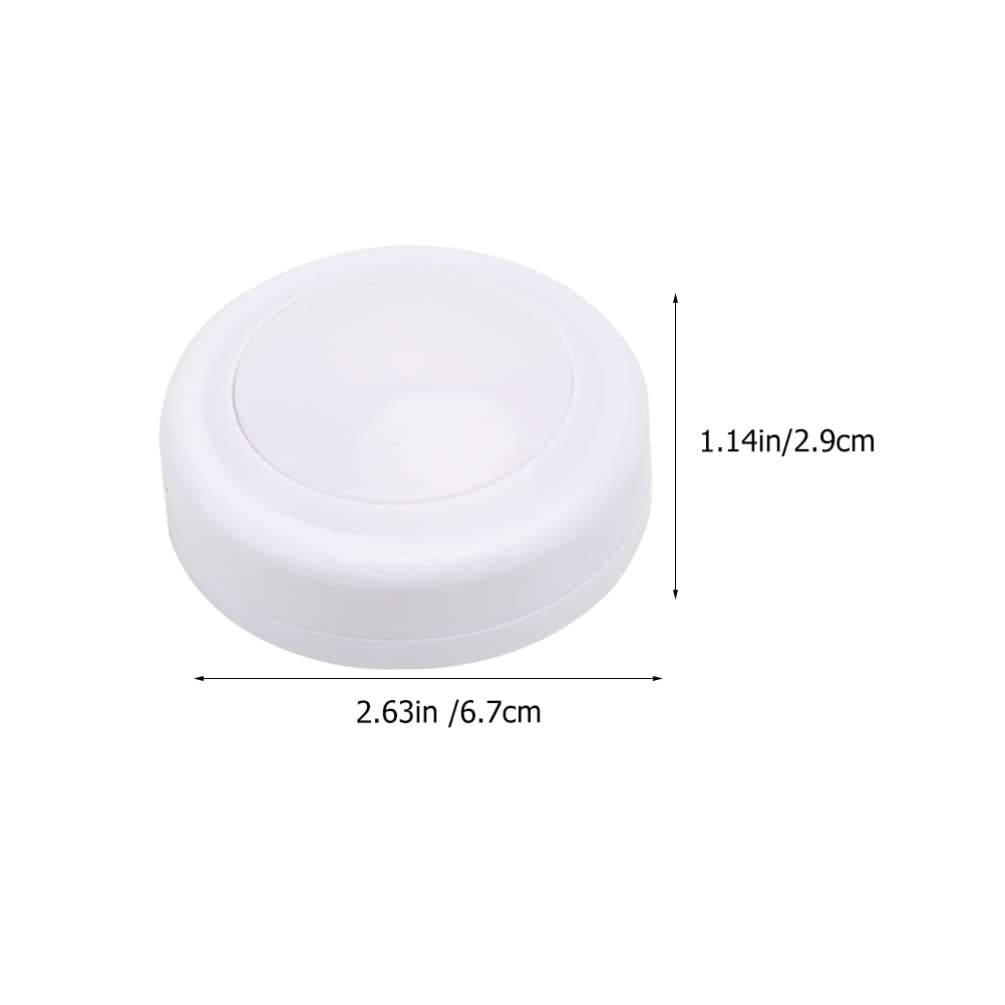/6.7cm: (448, 700, 540, 727)
1.14in/2.9cm: (702, 429, 874, 456)
2.63in: (357, 700, 437, 723)
